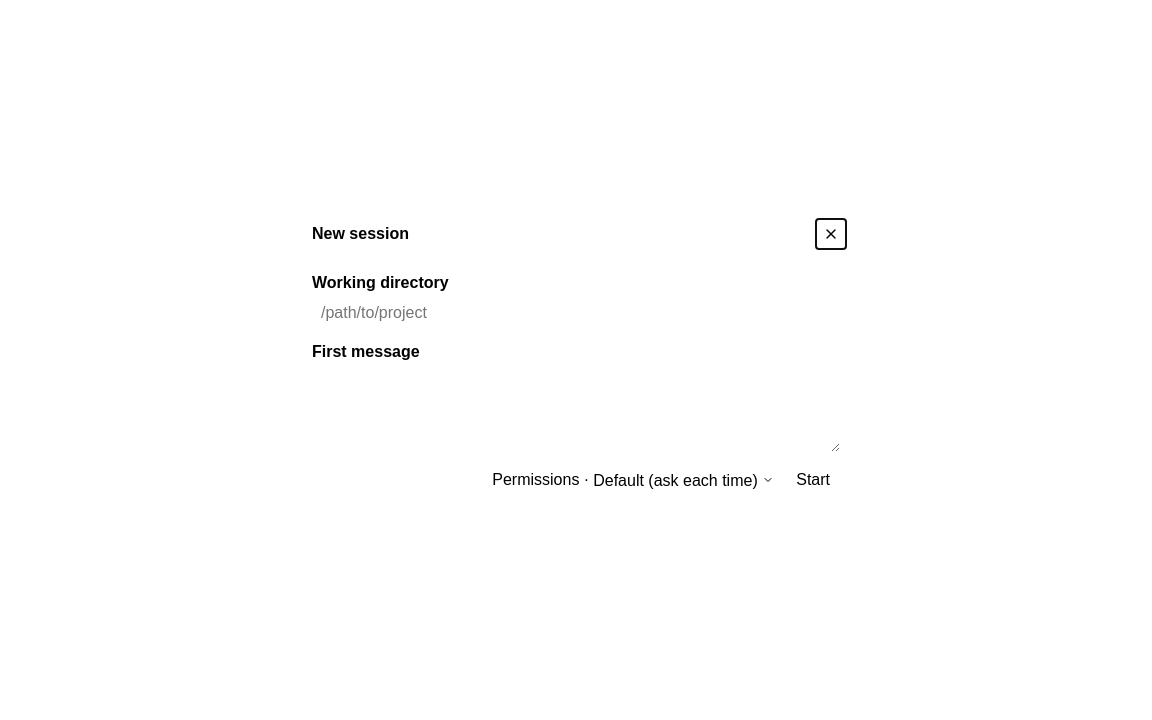
Test: NewSessionDialog › shows why a run could not start
This screenshot has width=1152, height=720.
Step 1. Type "/w/x" into the field labelled "Working directory" → [576, 313], box left=312, top=297, right=840, bottom=329
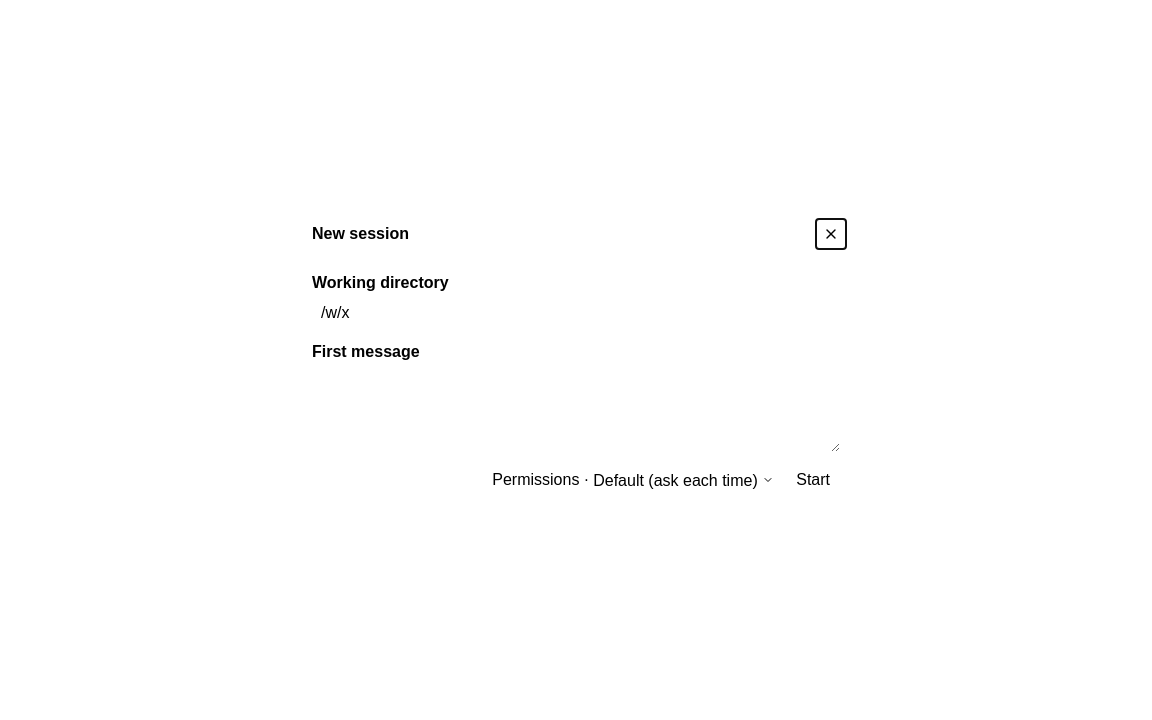
Step 2. Type "hi" into the text box labelled "First message" → [576, 409], box left=312, top=366, right=840, bottom=452
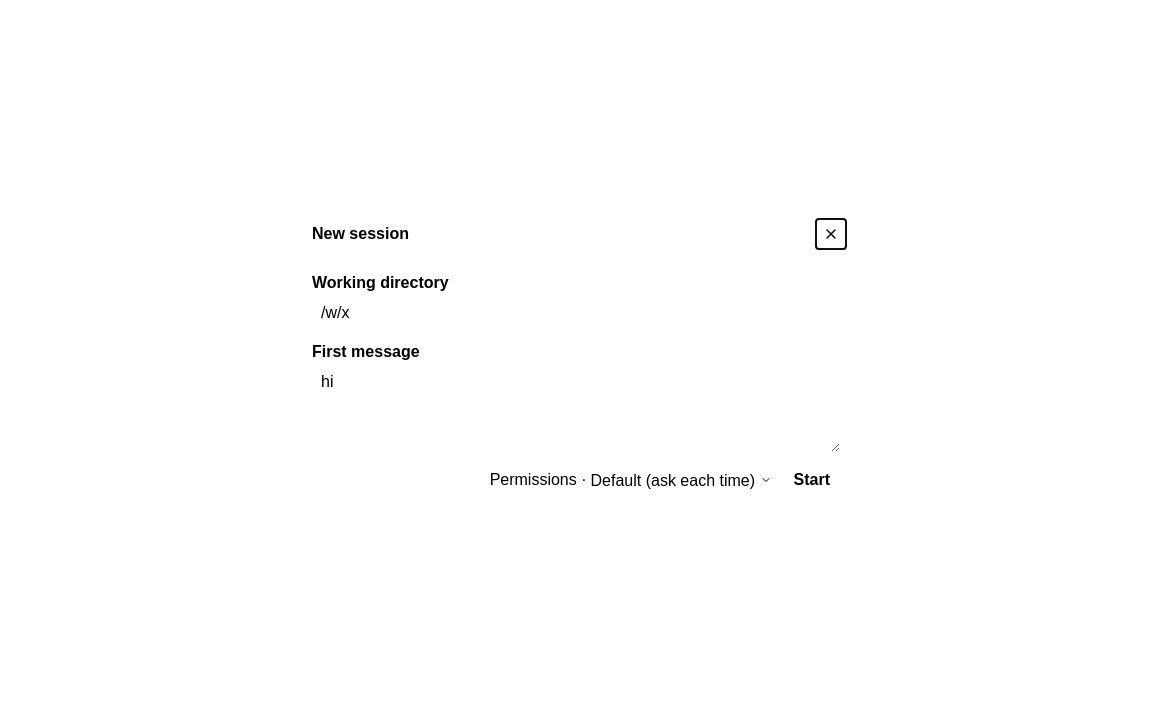
Step 3. Click the button "Start" → [812, 480], box left=784, top=466, right=840, bottom=494
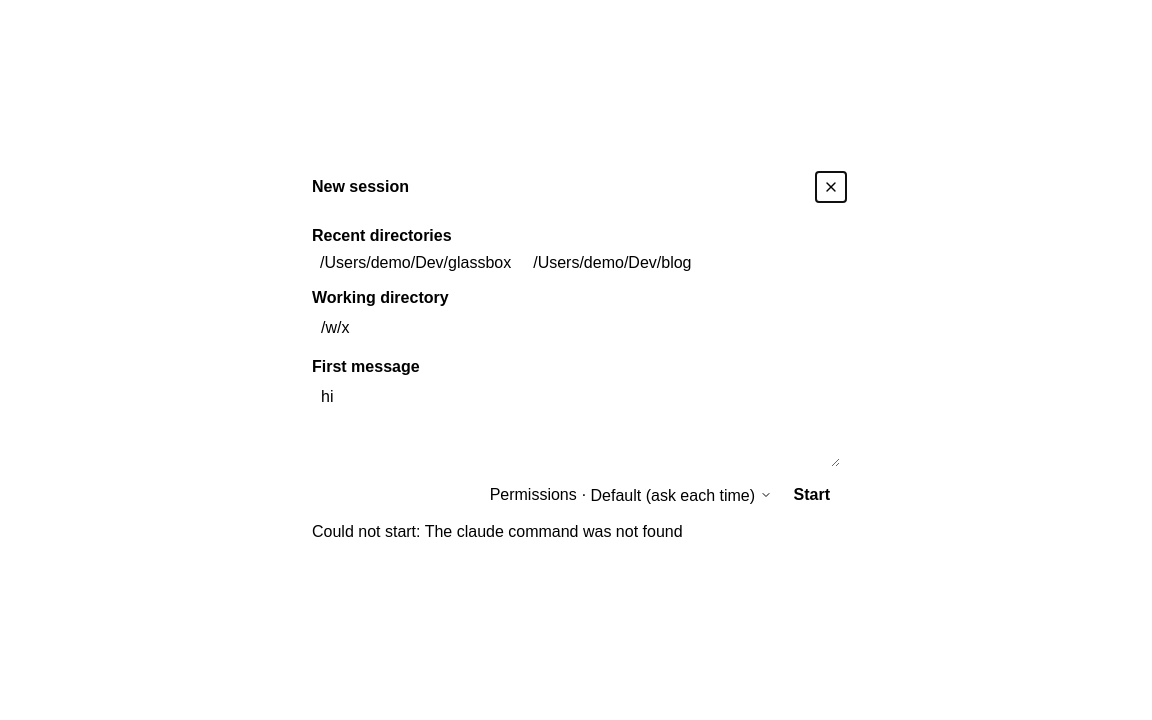
Check: the text "Could not start: The claude command was not found" is shown, box left=312, top=523, right=683, bottom=540
